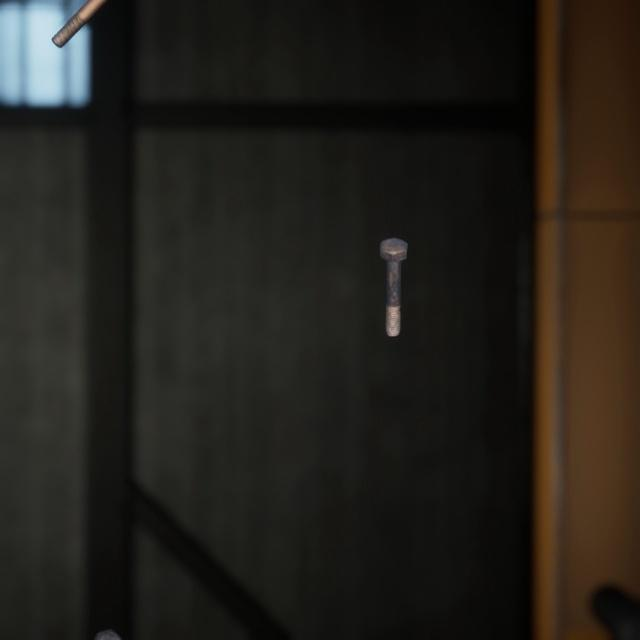bolt: (375, 217, 412, 325), (47, 0, 106, 45), (79, 600, 126, 640)
